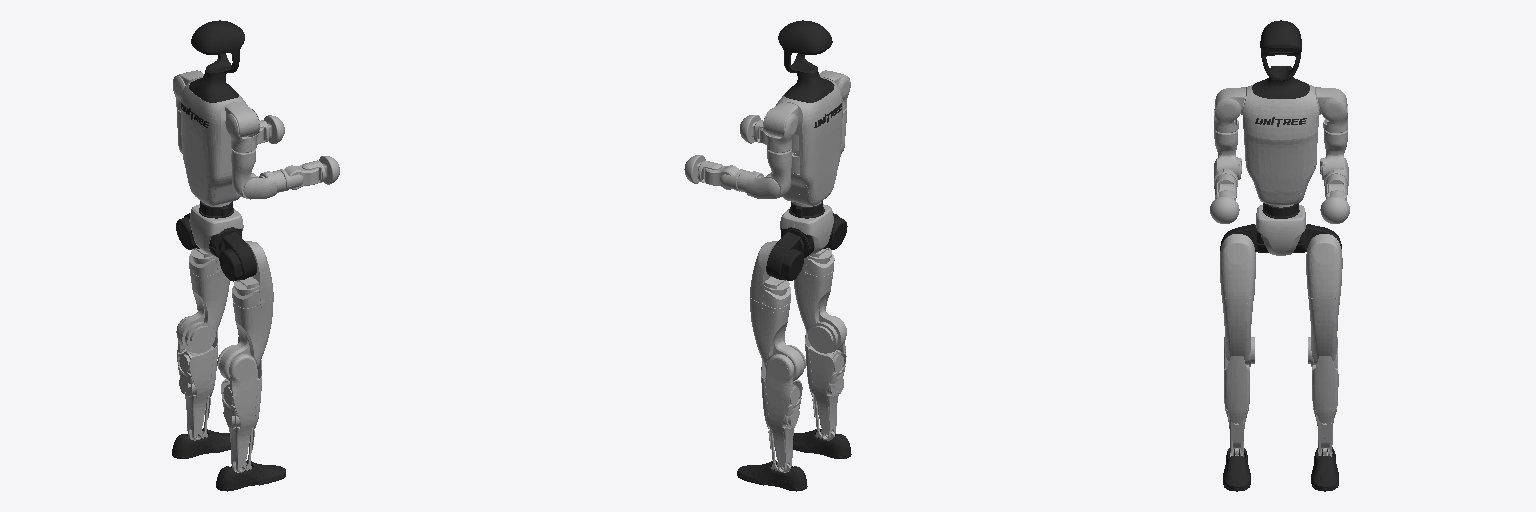
--- Facts derived from the render (not from the file) ---
3 views of the same robot in one strip: view 1: azimuth 30°, elevation 25°; view 2: azimuth 150°, elevation 25°; view 3: azimuth 270°, elevation 25° (orthographic).
Model g1_29dof with 53 links and 52 joints (29 revolute, 23 fixed), rooted at pelvis, posed every joint at zero.
Links seen in each view (by area): view 1: torso_link, right_knee_link, head_link, left_knee_link, left_hip_yaw_link, right_hip_yaw_link, right_hip_roll_link, right_hip_pitch_link, right_ankle_roll_link, pelvis_contour_link, left_ankle_roll_link, right_elbow_link (+5 smaller); view 2: torso_link, left_knee_link, head_link, right_knee_link, right_hip_yaw_link, left_hip_yaw_link, left_hip_roll_link, left_hip_pitch_link, left_ankle_roll_link, pelvis_contour_link, right_ankle_roll_link, left_elbow_link (+5 smaller); view 3: torso_link, head_link, left_hip_roll_link, right_hip_roll_link, left_knee_link, right_knee_link, right_hip_yaw_link, left_hip_yaw_link, pelvis_contour_link, right_ankle_roll_link, left_ankle_roll_link, left_shoulder_yaw_link (+6 smaller).
Link boxes in pixels (box(x1,y1,x2,y2)): torso_link: box(181, 77, 247, 196); right_knee_link: box(221, 354, 261, 472); head_link: box(189, 20, 244, 102); left_knee_link: box(176, 316, 217, 439); left_hip_yaw_link: box(177, 271, 229, 353); right_hip_yaw_link: box(217, 297, 273, 380); right_hip_roll_link: box(232, 241, 273, 308); right_hip_pitch_link: box(219, 232, 256, 281); right_ankle_roll_link: box(216, 460, 285, 491); pelvis_contour_link: box(189, 204, 243, 255); left_ankle_roll_link: box(172, 428, 230, 458); right_elbow_link: box(243, 170, 285, 198); torso_link: box(776, 77, 842, 196); left_knee_link: box(761, 354, 802, 472); head_link: box(778, 20, 833, 102); right_knee_link: box(805, 316, 846, 439); right_hip_yaw_link: box(794, 270, 845, 353); left_hip_yaw_link: box(750, 298, 805, 381); left_hip_roll_link: box(750, 241, 790, 308); left_hip_pitch_link: box(766, 232, 803, 280); left_ankle_roll_link: box(737, 460, 807, 490); pelvis_contour_link: box(780, 204, 833, 255); right_ankle_roll_link: box(793, 429, 851, 458); left_elbow_link: box(737, 170, 779, 198); torso_link: box(1241, 84, 1320, 194); head_link: box(1252, 20, 1309, 98); left_hip_roll_link: box(1306, 234, 1342, 298); right_hip_roll_link: box(1220, 234, 1255, 298); left_knee_link: box(1312, 337, 1338, 456); right_knee_link: box(1224, 337, 1249, 456); right_hip_yaw_link: box(1222, 297, 1254, 366); left_hip_yaw_link: box(1308, 296, 1339, 366); pelvis_contour_link: box(1256, 205, 1305, 255); right_ankle_roll_link: box(1223, 448, 1250, 491); left_ankle_roll_link: box(1311, 447, 1338, 491); left_shoulder_yaw_link: box(1320, 130, 1347, 179).
Bounding box of the posed robot: 0.3633 × 0.377 × 1.32 m (x, y, z).
36 mesh visuals loaded from 35 distinct referenced files (35 OBJ).

robot.urdf — g1_29dof:
<robot name="g1_29dof">
  <mujoco>
    <compiler meshdir="assets" discardvisual="false"/>
  </mujoco>

  <!-- [CAUTION] uncomment when convert to mujoco -->
  <!-- <link name="world"></link>
  <joint name="floating_base_joint" type="floating">
    <parent link="world"/>
    <child link="pelvis"/>
  </joint> -->

  <link name="pelvis">
    <inertial>
      <origin xyz="0 0 -0.07605" rpy="0 0 0"/>
      <mass value="3.813"/>
      <inertia ixx="0.010549" ixy="0" ixz="2.1E-06" iyy="0.0093089" iyz="0" izz="0.0079184"/>
    </inertial>
    <visual>
      <origin xyz="0 0 0" rpy="0 0 0"/>
      <geometry>
        <mesh filename="assets/pelvis.obj"/>
      </geometry>
      <material name="dark">
        <color rgba="0.2 0.2 0.2 1"/>
      </material>
    </visual>
  </link>
  <link name="pelvis_contour_link">
    <inertial>
      <origin xyz="0 0 0" rpy="0 0 0"/>
      <mass value="0.001"/>
      <inertia ixx="1e-7" ixy="0" ixz="0" iyy="1e-7" iyz="0" izz="1e-7"/>
    </inertial>
    <visual>
      <origin xyz="0 0 0" rpy="0 0 0"/>
      <geometry>
        <mesh filename="assets/pelvis_contour_link.obj"/>
      </geometry>
      <material name="white">
        <color rgba="0.7 0.7 0.7 1"/>
      </material>
    </visual>
    <collision name="pelvis_contour_link">
      <origin xyz="0 0 0" rpy="0 0 0"/>
      <geometry>
        <mesh filename="assets/pelvis_contour_link.obj"/>
      </geometry>
    </collision>
  </link>
  <joint name="pelvis_contour_joint" type="fixed">
    <parent link="pelvis"/>
    <child link="pelvis_contour_link"/>
  </joint>

  <!-- Legs -->
  <link name="left_hip_pitch_link">
    <inertial>
      <origin xyz="0.002741 0.047791 -0.02606" rpy="0 0 0"/>
      <mass value="1.35"/>
      <inertia ixx="0.001811" ixy="3.68E-05" ixz="-3.44E-05" iyy="0.0014193" iyz="0.000171" izz="0.0012812"/>
    </inertial>
    <visual>
      <origin xyz="0 0 0" rpy="0 0 0"/>
      <geometry>
        <mesh filename="assets/left_hip_pitch_link.obj"/>
      </geometry>
      <material name="dark">
        <color rgba="0.2 0.2 0.2 1"/>
      </material>
    </visual>
    <collision name="left_hip_pitch_link">
      <origin xyz="0 0 0" rpy="0 0 0"/>
      <geometry>
        <mesh filename="assets/left_hip_pitch_link.obj"/>
      </geometry>
    </collision>
  </link>
  <joint name="left_hip_pitch_joint" type="revolute">
    <origin xyz="0 0.064452 -0.1027" rpy="0 0 0"/>
    <parent link="pelvis"/>
    <child link="left_hip_pitch_link"/>
    <axis xyz="0 1 0"/>
    <limit lower="-2.5307" upper="2.8798" effort="88" velocity="32"/>
  </joint>
  <link name="left_hip_roll_link">
    <inertial>
      <origin xyz="0.029812 -0.001045 -0.087934" rpy="0 0 0"/>
      <mass value="1.52"/>
      <inertia ixx="0.0023773" ixy="-3.8E-06" ixz="-0.0003908" iyy="0.0024123" iyz="1.84E-05" izz="0.0016595"/>
    </inertial>
    <visual>
      <origin xyz="0 0 0" rpy="0 0 0"/>
      <geometry>
        <mesh filename="assets/left_hip_roll_link.obj"/>
      </geometry>
      <material name="white">
        <color rgba="0.7 0.7 0.7 1"/>
      </material>
    </visual>
    <collision name="left_hip_roll_link">
      <origin xyz="0 0 0" rpy="0 0 0"/>
      <geometry>
        <mesh filename="assets/left_hip_roll_link.obj"/>
      </geometry>
    </collision>
  </link>
  <joint name="left_hip_roll_joint" type="revolute">
    <origin xyz="0 0.052 -0.030465" rpy="0 -0.1749 0"/>
    <parent link="left_hip_pitch_link"/>
    <child link="left_hip_roll_link"/>
    <axis xyz="1 0 0"/>
    <limit lower="-0.5236" upper="2.9671" effort="88" velocity="32"/>
  </joint>
  <link name="left_hip_yaw_link">
    <inertial>
      <origin xyz="-0.057709 -0.010981 -0.15078" rpy="0 0 0"/>
      <mass value="1.702"/>
      <inertia ixx="0.0057774" ixy="-0.0005411" ixz="-0.0023948" iyy="0.0076124" iyz="-0.0007072" izz="0.003149"/>
    </inertial>
    <visual>
      <origin xyz="0 0 0" rpy="0 0 0"/>
      <geometry>
        <mesh filename="assets/left_hip_yaw_link.obj"/>
      </geometry>
      <material name="white">
        <color rgba="0.7 0.7 0.7 1"/>
      </material>
    </visual>
    <collision name="left_hip_yaw_link">
      <origin xyz="0 0 0" rpy="0 0 0"/>
      <geometry>
        <mesh filename="assets/left_hip_yaw_link.obj"/>
      </geometry>
    </collision>
  </link>
  <joint name="left_hip_yaw_joint" type="revolute">
    <origin xyz="0.025001 0 -0.12412" rpy="0 0 0"/>
    <parent link="left_hip_roll_link"/>
    <child link="left_hip_yaw_link"/>
    <axis xyz="0 0 1"/>
    <limit lower="-2.7576" upper="2.7576" effort="88" velocity="32"/>
  </joint>
  <link name="left_knee_link">
    <inertial>
      <origin xyz="0.005457 0.003964 -0.12074" rpy="0 0 0"/>
      <mass value="1.932"/>
      <inertia ixx="0.011329" ixy="4.82E-05" ixz="-4.49E-05" iyy="0.011277" iyz="-0.0007146" izz="0.0015168"/>
    </inertial>
    <visual>
      <origin xyz="0 0 0" rpy="0 0 0"/>
      <geometry>
        <mesh filename="assets/left_knee_link.obj"/>
      </geometry>
      <material name="white">
        <color rgba="0.7 0.7 0.7 1"/>
      </material>
    </visual>
    <collision name="left_knee_link">
      <origin xyz="0 0 0" rpy="0 0 0"/>
      <geometry>
        <mesh filename="assets/left_knee_link.obj"/>
      </geometry>
    </collision>
  </link>
  <joint name="left_knee_joint" type="revolute">
    <origin xyz="-0.078273 0.0021489 -0.17734" rpy="0 0.1749 0"/>
    <parent link="left_hip_yaw_link"/>
    <child link="left_knee_link"/>
    <axis xyz="0 1 0"/>
    <limit lower="-0.087267" upper="2.8798" effort="139" velocity="20"/>
  </joint>
  <link name="left_ankle_intermediate_1_link">
    <inertial>
      <origin xyz="0 0 0" rpy="0 0 0"/>
      <mass value="0.01"/>
      <inertia ixx="1e-6" ixy="0" ixz="0" iyy="1e-6" iyz="0" izz="1e-6"/>
    </inertial>
    <visual>
      <origin xyz="0 0 0" rpy="0 0 0"/>
      <geometry>
        <sphere radius="0.01"/>
      </geometry>
      <material name="white">
        <color rgba="0.7 0.7 0.7 1"/>
      </material>
    </visual>
    <collision name="left_ankle_intermediate_1_link">
      <origin xyz="0 0 0" rpy="0 0 0"/>
      <geometry>
        <sphere radius="0.01"/>
      </geometry>
    </collision>
  </link>
  <joint name="left_ankle_intermediate_1_joint" type="fixed">
    <origin xyz="0 0 -0.28" rpy="0 0 0"/>
    <parent link="left_knee_link"/>
    <child link="left_ankle_intermediate_1_link"/>
  </joint>
  <link name="left_ankle_pitch_link">
    <inertial>
      <origin xyz="-0.007269 0 0.011137" rpy="0 0 0"/>
      <mass value="0.074"/>
      <inertia ixx="8.4E-06" ixy="0" ixz="-2.9E-06" iyy="1.89E-05" iyz="0" izz="1.26E-05"/>
    </inertial>
    <visual>
      <origin xyz="0 0 0" rpy="0 0 0"/>
      <geometry>
        <mesh filename="assets/left_ankle_pitch_link.obj"/>
      </geometry>
      <material name="white">
        <color rgba="0.7 0.7 0.7 1"/>
      </material>
    </visual>
    <collision name="left_ankle_pitch_link">
      <origin xyz="0 0 0" rpy="0 0 0"/>
      <geometry>
        <mesh filename="assets/left_ankle_pitch_link.obj"/>
      </geometry>
    </collision>
  </link>
  <joint name="left_ankle_pitch_joint" type="revolute">
    <origin xyz="0 -9.4445E-05 -0.30001" rpy="0 0 0"/>
    <parent link="left_knee_link"/>
    <child link="left_ankle_pitch_link"/>
    <axis xyz="0 1 0"/>
    <limit lower="-0.87267" upper="0.5236" effort="50" velocity="37"/>
  </joint>
  <link name="left_ankle_roll_link">
    <inertial>
      <origin xyz="0.026505 0 -0.016425" rpy="0 0 0"/>
      <mass value="0.608"/>
      <inertia ixx="0.0002231" ixy="2E-07" ixz="8.91E-05" iyy="0.0016161" iyz="-1E-07" izz="0.0016667"/>
    </inertial>
    <visual>
      <origin xyz="0 0 0" rpy="0 0 0"/>
      <geometry>
        <mesh filename="assets/left_ankle_roll_link.obj"/>
      </geometry>
      <material name="dark">
        <color rgba="0.2 0.2 0.2 1"/>
      </material>
    </visual>
    <collision name="left_ankle_roll_link">
      <origin xyz="0 0 0" rpy="0 0 0"/>
      <geometry>
        <mesh filename="assets/left_ankle_roll_link.obj"/>
      </geometry>
    </collision>
  </link>
  <joint name="left_ankle_roll_joint" type="revolute">
    <origin xyz="0 0 -0.017558" rpy="0 0 0"/>
    <parent link="left_ankle_pitch_link"/>
    <child link="left_ankle_roll_link"/>
    <axis xyz="1 0 0"/>
    <limit lower="-0.2618" upper="0.2618" effort="50" velocity="37"/>
  </joint>
  <link name="left_ankle_roll_sphere_3_link">
    <inertial>
      <origin xyz="0 0 0" rpy="0 0 0"/>
      <mass value="0.001"/>
      <inertia ixx="1e-7" ixy="0" ixz="0" iyy="1e-7" iyz="0" izz="1e-7"/>
    </inertial>
    <visual>
      <origin xyz="0 0 0" rpy="0 0 0"/>
      <geometry>
        <sphere radius="0.005"/>
      </geometry>
      <material name="dark">
        <color rgba="0.2 0.2 0.2 1"/>
      </material>
    </visual>
    <collision name="left_ankle_roll_sphere_3_link">
      <origin xyz="0.0 0.0 0.0" rpy="0 0 0"/>
      <geometry>
        <sphere radius="0.005"/>
      </geometry>
    </collision>
  </link>
  <joint name="left_ankle_roll_sphere_3_joint" type="fixed">
    <origin xyz="0.12 0.03 -0.03" rpy="0 0 0"/>
    <parent link="left_ankle_roll_link"/>
    <child link="left_ankle_roll_sphere_3_link"/>
  </joint>
  <link name="left_ankle_roll_sphere_4_link">
    <inertial>
      <origin xyz="0 0 0" rpy="0 0 0"/>
      <mass value="0.001"/>
      <inertia ixx="1e-7" ixy="0" ixz="0" iyy="1e-7" iyz="0" izz="1e-7"/>
    </inertial>
    <visual>
      <origin xyz="0 0 0" rpy="0 0 0"/>
      <geometry>
        <sphere radius="0.005"/>
      </geometry>
      <material name="dark">
        <color rgba="0.2 0.2 0.2 1"/>
      </material>
    </visual>
    <collision name="left_ankle_roll_sphere_4_link">
      <origin xyz="0.0 0.0 0.0" rpy="0 0 0"/>
      <geometry>
        <sphere radius="0.005"/>
      </geometry>
    </collision>
  </link>
  <joint name="left_ankle_roll_sphere_4_joint" type="fixed">
    <origin xyz="0.12 -0.03 -0.03" rpy="0 0 0"/>
    <parent link="left_ankle_roll_link"/>
    <child link="left_ankle_roll_sphere_4_link"/>
  </joint>
  <link name="left_ankle_roll_sphere_5_link">
    <inertial>
      <origin xyz="0 0 0" rpy="0 0 0"/>
      <mass value="0.001"/>
      <inertia ixx="1e-7" ixy="0" ixz="0" iyy="1e-7" iyz="0" izz="1e-7"/>
    </inertial>
    <visual>
      <origin xyz="0 0 0" rpy="0 0 0"/>
      <geometry>
        <sphere radius="0.005"/>
      </geometry>
      <material name="dark">
        <color rgba="0.2 0.2 0.2 1"/>
      </material>
    </visual>
    <collision name="left_ankle_roll_sphere_5_link">
      <origin xyz="0.0 0.0 0.0" rpy="0 0 0"/>
      <geometry>
        <sphere radius="0.005"/>
      </geometry>
    </collision>
  </link>
  <joint name="left_ankle_roll_sphere_5_joint" type="fixed">
    <origin xyz="0.14 0 -0.03" rpy="0 0 0"/>
    <parent link="left_ankle_roll_link"/>
    <child link="left_ankle_roll_sphere_5_link"/>
  </joint>
  <link name="left_ankle_roll_sphere_1_link">
    <inertial>
      <origin xyz="0 0 0" rpy="0 0 0"/>
      <mass value="0.001"/>
      <inertia ixx="1e-7" ixy="0" ixz="0" iyy="1e-7" iyz="0" izz="1e-7"/>
    </inertial>
    <visual>
      <origin xyz="0 0 0" rpy="0 0 0"/>
      <geometry>
        <sphere radius="0.005"/>
      </geometry>
      <material name="dark">
        <color rgba="0.2 0.2 0.2 1"/>
      </material>
    </visual>
    <collision name="left_ankle_roll_sphere_1_link">
      <origin xyz="0.0 0.0 0.0" rpy="0 0 0"/>
      <geometry>
        <sphere radius="0.005"/>
      </geometry>
    </collision>
  </link>
  <joint name="left_ankle_roll_sphere_1_joint" type="fixed">
    <origin xyz="-0.05 0.025 -0.03" rpy="0 0 0"/>
    <parent link="left_ankle_roll_link"/>
    <child link="left_ankle_roll_sphere_1_link"/>
  </joint>
  <link name="left_ankle_roll_sphere_2_link">
    <inertial>
      <origin xyz="0 0 0" rpy="0 0 0"/>
      <mass value="0.001"/>
      <inertia ixx="1e-7" ixy="0" ixz="0" iyy="1e-7" iyz="0" izz="1e-7"/>
    </inertial>
    <visual>
      <origin xyz="0 0 0" rpy="0 0 0"/>
      <geometry>
        <sphere radius="0.005"/>
      </geometry>
      <material name="dark">
        <color rgba="0.2 0.2 0.2 1"/>
      </material>
    </visual>
    <collision name="left_ankle_roll_sphere_2_link">
      <origin xyz="0.0 0.0 0.0" rpy="0 0 0"/>
      <geometry>
        <sphere radius="0.005"/>
      </geometry>
    </collision>
  </link>
  <joint name="left_ankle_roll_sphere_2_joint" type="fixed">
    <origin xyz="-0.05 -0.025 -0.03" rpy="0 0 0"/>
    <parent link="left_ankle_roll_link"/>
    <child link="left_ankle_roll_sphere_2_link"/>
  </joint>
  <link name="right_hip_pitch_link">
    <inertial>
      <origin xyz="0.002741 -0.047791 -0.02606" rpy="0 0 0"/>
      <mass value="1.35"/>
      <inertia ixx="0.001811" ixy="-3.68E-05" ixz="-3.44E-05" iyy="0.0014193" iyz="-0.000171" izz="0.0012812"/>
    </inertial>
    <visual>
      <origin xyz="0 0 0" rpy="0 0 0"/>
      <geometry>
        <mesh filename="assets/right_hip_pitch_link.obj"/>
      </geometry>
      <material name="dark">
        <color rgba="0.2 0.2 0.2 1"/>
      </material>
    </visual>
    <collision name="right_hip_pitch_link">
      <origin xyz="0 0 0" rpy="0 0 0"/>
      <geometry>
        <mesh filename="assets/right_hip_pitch_link.obj"/>
      </geometry>
    </collision>
  </link>
  <joint name="right_hip_pitch_joint" type="revolute">
    <origin xyz="0 -0.064452 -0.1027" rpy="0 0 0"/>
    <parent link="pelvis"/>
    <child link="right_hip_pitch_link"/>
    <axis xyz="0 1 0"/>
    <limit lower="-2.5307" upper="2.8798" effort="88" velocity="32"/>
  </joint>
  <link name="right_hip_roll_link">
    <inertial>
      <origin xyz="0.029812 0.001045 -0.087934" rpy="0 0 0"/>
      <mass value="1.52"/>
      <inertia ixx="0.0023773" ixy="3.8E-06" ixz="-0.0003908" iyy="0.0024123" iyz="-1.84E-05" izz="0.0016595"/>
    </inertial>
    <visual>
      <origin xyz="0 0 0" rpy="0 0 0"/>
      <geometry>
        <mesh filename="assets/right_hip_roll_link.obj"/>
      </geometry>
      <material name="white">
        <color rgba="0.7 0.7 0.7 1"/>
      </material>
    </visual>
    <collision name="right_hip_roll_link">
      <origin xyz="0 0 0" rpy="0 0 0"/>
      <geometry>
        <mesh filename="assets/right_hip_roll_link.obj"/>
      </geometry>
    </collision>
  </link>
  <joint name="right_hip_roll_joint" type="revolute">
    <origin xyz="0 -0.052 -0.030465" rpy="0 -0.1749 0"/>
    <parent link="right_hip_pitch_link"/>
    <child link="right_hip_roll_link"/>
    <axis xyz="1 0 0"/>
    <limit lower="-2.9671" upper="0.5236" effort="88" velocity="32"/>
  </joint>
  <link name="right_hip_yaw_link">
    <inertial>
      <origin xyz="-0.057709 0.010981 -0.15078" rpy="0 0 0"/>
      <mass value="1.702"/>
      <inertia ixx="0.0057774" ixy="0.0005411" ixz="-0.0023948" iyy="0.0076124" iyz="0.0007072" izz="0.003149"/>
    </inertial>
    <visual>
      <origin xyz="0 0 0" rpy="0 0 0"/>
      <geometry>
        <mesh filename="assets/right_hip_yaw_link.obj"/>
      </geometry>
      <material name="white">
        <color rgba="0.7 0.7 0.7 1"/>
      </material>
    </visual>
    <collision name="right_hip_yaw_link">
      <origin xyz="0 0 0" rpy="0 0 0"/>
      <geometry>
        <mesh filename="assets/right_hip_yaw_link.obj"/>
      </geometry>
    </collision>
  </link>
  <joint name="right_hip_yaw_joint" type="revolute">
    <origin xyz="0.025001 0 -0.12412" rpy="0 0 0"/>
    <parent link="right_hip_roll_link"/>
    <child link="right_hip_yaw_link"/>
    <axis xyz="0 0 1"/>
    <limit lower="-2.7576" upper="2.7576" effort="88" velocity="32"/>
  </joint>
  <link name="right_knee_link">
    <inertial>
      <origin xyz="0.005457 -0.003964 -0.12074" rpy="0 0 0"/>
      <mass value="1.932"/>
      <inertia ixx="0.011329" ixy="-4.82E-05" ixz="4.49E-05" iyy="0.011277" iyz="0.0007146" izz="0.0015168"/>
    </inertial>
    <visual>
      <origin xyz="0 0 0" rpy="0 0 0"/>
      <geometry>
        <mesh filename="assets/right_knee_link.obj"/>
      </geometry>
      <material name="white">
        <color rgba="0.7 0.7 0.7 1"/>
      </material>
    </visual>
    <collision name="right_knee_link">
      <origin xyz="0 0 0" rpy="0 0 0"/>
      <geometry>
        <mesh filename="assets/right_knee_link.obj"/>
      </geometry>
    </collision>
  </link>
  <joint name="right_knee_joint" type="revolute">
    <origin xyz="-0.078273 -0.0021489 -0.17734" rpy="0 0.1749 0"/>
    <parent link="right_hip_yaw_link"/>
    <child link="right_knee_link"/>
    <axis xyz="0 1 0"/>
    <limit lower="-0.087267" upper="2.8798" effort="139" velocity="20"/>
  </joint>
  <link name="right_ankle_intermediate_1_link">
    <inertial>
      <origin xyz="0 0 0" rpy="0 0 0"/>
      <mass value="0.01"/>
      <inertia ixx="1e-6" ixy="0" ixz="0" iyy="1e-6" iyz="0" izz="1e-6"/>
    </inertial>
    <visual>
      <origin xyz="0 0 0" rpy="0 0 0"/>
      <geometry>
        <sphere radius="0.01"/>
      </geometry>
      <material name="white">
        <color rgba="0.7 0.7 0.7 1"/>
      </material>
    </visual>
    <collision name="right_ankle_intermediate_1_link">
      <origin xyz="0 0 0" rpy="0 0 0"/>
      <geometry>
        <sphere radius="0.01"/>
      </geometry>
    </collision>
  </link>
  <joint name="right_ankle_intermediate_1_joint" type="fixed">
    <origin xyz="0 0 -0.28" rpy="0 0 0"/>
    <parent link="right_knee_link"/>
    <child link="right_ankle_intermediate_1_link"/>
  </joint>
  <link name="right_ankle_pitch_link">
    <inertial>
      <origin xyz="-0.007269 0 0.011137" rpy="0 0 0"/>
      <mass value="0.074"/>
      <inertia ixx="8.4E-06" ixy="0" ixz="-2.9E-06" iyy="1.89E-05" iyz="0" izz="1.26E-05"/>
    </inertial>
    <visual>
      <origin xyz="0 0 0" rpy="0 0 0"/>
      <geometry>
        <mesh filename="assets/right_ankle_pitch_link.obj"/>
      </geometry>
      <material name="white">
        <color rgba="0.7 0.7 0.7 1"/>
      </material>
    </visual>
    <collision name="right_ankle_pitch_link">
      <origin xyz="0 0 0" rpy="0 0 0"/>
      <geometry>
        <mesh filename="assets/right_ankle_pitch_link.obj"/>
      </geometry>
    </collision>
  </link>
  <joint name="right_ankle_pitch_joint" type="revolute">
    <origin xyz="0 9.4445E-05 -0.30001" rpy="0 0 0"/>
    <parent link="right_knee_link"/>
    <child link="right_ankle_pitch_link"/>
    <axis xyz="0 1 0"/>
    <limit lower="-0.87267" upper="0.5236" effort="50" velocity="37"/>
  </joint>
  <link name="right_ankle_roll_link">
    <inertial>
      <origin xyz="0.026505 0 -0.016425" rpy="0 0 0"/>
      <mass value="0.608"/>
      <inertia ixx="0.0002231" ixy="-2E-07" ixz="8.91E-05" iyy="0.0016161" iyz="1E-07" izz="0.0016667"/>
    </inertial>
    <visual>
      <origin xyz="0 0 0" rpy="0 0 0"/>
      <geometry>
        <mesh filename="assets/right_ankle_roll_link.obj"/>
      </geometry>
      <material name="dark">
        <color rgba="0.2 0.2 0.2 1"/>
      </material>
    </visual>
    <collision name="right_ankle_roll_link">
      <origin xyz="0 0 0" rpy="0 0 0"/>
      <geometry>
        <mesh filename="assets/right_ankle_roll_link.obj"/>
      </geometry>
    </collision>
  </link>
  <joint name="right_ankle_roll_joint" type="revolute">
    <origin xyz="0 0 -0.017558" rpy="0 0 0"/>
    <parent link="right_ankle_pitch_link"/>
    <child link="right_ankle_roll_link"/>
    <axis xyz="1 0 0"/>
    <limit lower="-0.2618" upper="0.2618" effort="50" velocity="37"/>
  </joint>
  <link name="right_ankle_roll_sphere_3_link">
    <inertial>
      <origin xyz="0 0 0" rpy="0 0 0"/>
      <mass value="0.001"/>
      <inertia ixx="1e-7" ixy="0" ixz="0" iyy="1e-7" iyz="0" izz="1e-7"/>
    </inertial>
    <visual>
      <origin xyz="0 0 0" rpy="0 0 0"/>
      <geometry>
        <sphere radius="0.005"/>
      </geometry>
      <material name="dark">
        <color rgba="0.2 0.2 0.2 1"/>
      </material>
    </visual>
    <collision name="right_ankle_roll_sphere_3_link">
      <origin xyz="0.0 0.0 0.0" rpy="0 0 0"/>
      <geometry>
        <sphere radius="0.005"/>
      </geometry>
    </collision>
  </link>
  <joint name="right_ankle_roll_sphere_3_joint" type="fixed">
    <origin xyz="0.12 0.03 -0.03" rpy="0 0 0"/>
    <parent link="right_ankle_roll_link"/>
    <child link="right_ankle_roll_sphere_3_link"/>
  </joint>
  <link name="right_ankle_roll_sphere_4_link">
    <inertial>
      <origin xyz="0 0 0" rpy="0 0 0"/>
      <mass value="0.001"/>
      <inertia ixx="1e-7" ixy="0" ixz="0" iyy="1e-7" iyz="0" izz="1e-7"/>
    </inertial>
    <visual>
      <origin xyz="0 0 0" rpy="0 0 0"/>
      <geometry>
        <sphere radius="0.005"/>
      </geometry>
      <material name="dark">
        <color rgba="0.2 0.2 0.2 1"/>
      </material>
    </visual>
    <collision name="right_ankle_roll_sphere_4_link">
      <origin xyz="0.0 0.0 0.0" rpy="0 0 0"/>
      <geometry>
        <sphere radius="0.005"/>
      </geometry>
    </collision>
  </link>
  <joint name="right_ankle_roll_sphere_4_joint" type="fixed">
    <origin xyz="0.12 -0.03 -0.03" rpy="0 0 0"/>
    <parent link="right_ankle_roll_link"/>
    <child link="right_ankle_roll_sphere_4_link"/>
  </joint>
  <link name="right_ankle_roll_sphere_5_link">
    <inertial>
      <origin xyz="0 0 0" rpy="0 0 0"/>
      <mass value="0.001"/>
      <inertia ixx="1e-7" ixy="0" ixz="0" iyy="1e-7" iyz="0" izz="1e-7"/>
    </inertial>
    <visual>
      <origin xyz="0 0 0" rpy="0 0 0"/>
      <geometry>
        <sphere radius="0.005"/>
      </geometry>
      <material name="dark">
        <color rgba="0.2 0.2 0.2 1"/>
      </material>
    </visual>
    <collision name="right_ankle_roll_sphere_5_link">
      <origin xyz="0.0 0.0 0.0" rpy="0 0 0"/>
      <geometry>
        <sphere radius="0.005"/>
      </geometry>
    </collision>
  </link>
  <joint name="right_ankle_roll_sphere_5_joint" type="fixed">
    <origin xyz="0.14 0 -0.03" rpy="0 0 0"/>
    <parent link="right_ankle_roll_link"/>
    <child link="right_ankle_roll_sphere_5_link"/>
  </joint>
  <link name="right_ankle_roll_sphere_1_link">
    <inertial>
      <origin xyz="0 0 0" rpy="0 0 0"/>
      <mass value="0.001"/>
      <inertia ixx="1e-7" ixy="0" ixz="0" iyy="1e-7" iyz="0" izz="1e-7"/>
    </inertial>
    <visual>
      <origin xyz="0 0 0" rpy="0 0 0"/>
      <geometry>
        <sphere radius="0.005"/>
      </geometry>
      <material name="dark">
        <color rgba="0.2 0.2 0.2 1"/>
      </material>
    </visual>
    <collision name="right_ankle_roll_sphere_1_link">
      <origin xyz="0.0 0.0 0.0" rpy="0 0 0"/>
      <geometry>
        <sphere radius="0.005"/>
      </geometry>
    </collision>
  </link>
  <joint name="right_ankle_roll_sphere_1_joint" type="fixed">
    <origin xyz="-0.05 0.025 -0.03" rpy="0 0 0"/>
    <parent link="right_ankle_roll_link"/>
    <child link="right_ankle_roll_sphere_1_link"/>
  </joint>
  <link name="right_ankle_roll_sphere_2_link">
    <inertial>
      <origin xyz="0 0 0" rpy="0 0 0"/>
      <mass value="0.001"/>
      <inertia ixx="1e-7" ixy="0" ixz="0" iyy="1e-7" iyz="0" izz="1e-7"/>
    </inertial>
    <visual>
      <origin xyz="0 0 0" rpy="0 0 0"/>
      <geometry>
        <sphere radius="0.005"/>
      </geometry>
      <material name="dark">
        <color rgba="0.2 0.2 0.2 1"/>
      </material>
    </visual>
    <collision name="right_ankle_roll_sphere_2_link">
      <origin xyz="0.0 0.0 0.0" rpy="0 0 0"/>
      <geometry>
        <sphere radius="0.005"/>
      </geometry>
    </collision>
  </link>
  <joint name="right_ankle_roll_sphere_2_joint" type="fixed">
    <origin xyz="-0.05 -0.025 -0.03" rpy="0 0 0"/>
    <parent link="right_ankle_roll_link"/>
    <child link="right_ankle_roll_sphere_2_link"/>
  </joint>

  <!-- Torso -->
  <link name="waist_yaw_link">
    <inertial>
      <origin xyz="0.003964 0 0.018769" rpy="0 0 0"/>
      <mass value="0.244"/>
      <inertia ixx="9.9587E-05" ixy="-1.833E-06" ixz="-1.2617E-05" iyy="0.00012411" iyz="-1.18E-07" izz="0.00015586"/>
    </inertial>
    <visual>
      <origin xyz="0 0 0" rpy="0 0 0"/>
      <geometry>
        <mesh filename="assets/waist_yaw_link.obj"/>
      </geometry>
      <material name="white">
        <color rgba="0.7 0.7 0.7 1"/>
      </material>
    </visual>
  </link>
  <joint name="waist_yaw_joint" type="revolute">
    <origin xyz="0 0 0" rpy="0 0 0"/>
    <parent link="pelvis"/>
    <child link="waist_yaw_link"/>
    <axis xyz="0 0 1"/>
    <limit lower="-2.618" upper="2.618" effort="88" velocity="32"/>
  </joint>
  <link name="waist_roll_link">
    <inertial>
      <origin xyz="0 -0.000236 0.010111" rpy="0 0 0"/>
      <mass value="0.047"/>
      <inertia ixx="7.515E-06" ixy="0" ixz="0" iyy="6.398E-06" iyz="9.9E-08" izz="3.988E-06"/>
    </inertial>
    <visual>
      <origin xyz="0 0 0" rpy="0 0 0"/>
      <geometry>
        <mesh filename="assets/waist_roll_link.obj"/>
      </geometry>
      <material name="white">
        <color rgba="0.7 0.7 0.7 1"/>
      </material>
    </visual>
  </link>
  <joint name="waist_roll_joint" type="revolute">
    <origin xyz="-0.0039635 0 0.035" rpy="0 0 0"/>
    <parent link="waist_yaw_link"/>
    <child link="waist_roll_link"/>
    <axis xyz="1 0 0"/>
    <limit lower="-0.52" upper="0.52" effort="50" velocity="37"/>
  </joint>
  <link name="torso_link">
    <inertial>
      <origin xyz="0.002601 0.000257 0.153719" rpy="0 0 0"/>
      <mass value="8.562"/>
      <inertia ixx="0.065674966" ixy="-8.597E-05" ixz="-0.001737252" iyy="0.053535188" iyz="8.6899E-05" izz="0.030808125"/>
    </inertial>
    <visual>
      <origin xyz="0 0 0" rpy="0 0 0"/>
      <geometry>
        <mesh filename="assets/torso_link.obj"/>
      </geometry>
      <material name="white">
        <color rgba="0.7 0.7 0.7 1"/>
      </material>
    </visual>
    <collision name="torso_link">
      <origin xyz="0 0 0" rpy="0 0 0"/>
      <geometry>
        <mesh filename="assets/torso_link.obj"/>
      </geometry>
    </collision>
  </link>
  <joint name="waist_pitch_joint" type="revolute">
    <origin xyz="0 0 0.019" rpy="0 0 0"/>
    <parent link="waist_roll_link"/>
    <child link="torso_link"/>
    <axis xyz="0 1 0"/>
    <limit lower="-0.52" upper="0.52" effort="50" velocity="37"/>
  </joint>

  <!-- LOGO -->
  <joint name="logo_joint" type="fixed">
    <origin xyz="0.0039635 0 -0.054" rpy="0 0 0"/>
    <parent link="torso_link"/>
    <child link="logo_link"/>
  </joint>
  <link name="logo_link">
    <inertial>
      <origin xyz="0 0 0" rpy="0 0 0"/>
      <mass value="0.001"/>
      <inertia ixx="1e-7" ixy="0" ixz="0" iyy="1e-7" iyz="0" izz="1e-7"/>
    </inertial>
    <visual>
      <origin xyz="0 0 0" rpy="0 0 0"/>
      <geometry>
        <mesh filename="assets/logo_link.obj"/>
      </geometry>
      <material name="dark">
        <color rgba="0.2 0.2 0.2 1"/>
      </material>
    </visual>
    <collision name="logo_link">
      <origin xyz="0 0 0" rpy="0 0 0"/>
      <geometry>
        <mesh filename="assets/logo_link.obj"/>
      </geometry>
    </collision>
  </link>

  <!-- Head -->
  <link name="head_link">
    <inertial>
      <origin xyz="0.005267 0.000299 0.449869" rpy="0 0 0"/>
      <mass value="1.036"/>
      <inertia ixx="0.004085051" ixy="-2.543E-06" ixz="-6.9455E-05" iyy="0.004185212" iyz="-3.726E-06" izz="0.001807911"/>
    </inertial>
    <visual>
      <origin xyz="0 0 0" rpy="0 0 0"/>
      <geometry>
        <mesh filename="assets/head_link.obj"/>
      </geometry>
      <material name="dark">
        <color rgba="0.2 0.2 0.2 1"/>
      </material>
    </visual>
    <collision name="head_link">
      <origin xyz="0 0 0" rpy="0 0 0"/>
      <geometry>
        <mesh filename="assets/head_link.obj"/>
      </geometry>
    </collision>
  </link>
  <joint name="head_joint" type="fixed">
    <origin xyz="0.0039635 0 -0.054" rpy="0 0 0"/>
    <parent link="torso_link"/>
    <child link="head_link"/>
  </joint>

  <!-- Waist Support -->
  <link name="waist_support_link">
    <inertial>
      <origin xyz="0 0 0" rpy="0 0 0"/>
      <mass value="0.001"/>
      <inertia ixx="1e-7" ixy="0" ixz="0" iyy="1e-7" iyz="0" izz="1e-7"/>
    </inertial>
    <visual>
      <origin xyz="0 0 0" rpy="0 0 0"/>
      <geometry>
        <mesh filename="assets/waist_support_link.obj"/>
      </geometry>
      <material name="white">
        <color rgba="0.7 0.7 0.7 1"/>
      </material>
    </visual>
    <collision name="waist_support_link">
      <origin xyz="0 0 0" rpy="0 0 0"/>
      <geometry>
        <mesh filename="assets/waist_support_link.obj"/>
      </geometry>
    </collision>
  </link>
  <joint name="waist_support_joint" type="fixed">
    <origin xyz="0.0039635 0 -0.054" rpy="0 0 0"/>
    <parent link="torso_link"/>
    <child link="waist_support_link"/>
  </joint>

  <!-- IMU -->
  <link name="imu_link"></link>
  <joint name="imu_joint" type="fixed">
    <origin xyz="-0.03959 -0.00224 0.13792" rpy="0 0 0"/>
    <parent link="torso_link"/>
    <child link="imu_link"/>
  </joint>

  <!-- d435 -->
  <link name="d435_link"></link>
  <joint name="d435_joint" type="fixed">
    <origin xyz="0.0576235 0.01753 0.41987" rpy="0 0.8307767239493009 0"/>
    <parent link="torso_link"/>
    <child link="d435_link"/>
  </joint>

  <!-- mid360 -->
  <link name="mid360_link"></link>
  <joint name="mid360_joint" type="fixed">
    <origin xyz="0.0002835 0.00003 0.40618" rpy="0 0.04014257279586953 0"/>
    <parent link="torso_link"/>
    <child link="mid360_link"/>
  </joint>

  <!-- Arm -->
  <link name="left_shoulder_pitch_link">
    <inertial>
      <origin xyz="0 0.035892 -0.011628" rpy="0 0 0"/>
      <mass value="0.718"/>
      <inertia ixx="0.0004291" ixy="-9.2E-06" ixz="6.4E-06" iyy="0.000453" iyz="2.26E-05" izz="0.000423"/>
    </inertial>
    <visual>
      <origin xyz="0 0 0" rpy="0 0 0"/>
      <geometry>
        <mesh filename="assets/left_shoulder_pitch_link.obj"/>
      </geometry>
      <material name="white">
        <color rgba="0.7 0.7 0.7 1"/>
      </material>
    </visual>
    <collision name="left_shoulder_pitch_link">
      <origin xyz="0 0.04 -0.01" rpy="0 1.5707963267948966 0"/>
      <geometry>
        <cylinder radius="0.03" length="0.05"/>
      </geometry>
    </collision>
  </link>
  <joint name="left_shoulder_pitch_joint" type="revolute">
    <origin xyz="0.0039563 0.10022 0.23778" rpy="0.27931 5.4949E-05 -0.00019159"/>
    <parent link="torso_link"/>
    <child link="left_shoulder_pitch_link"/>
    <axis xyz="0 1 0"/>
    <limit lower="-3.0892" upper="2.6704" effort="25" velocity="37"/>
  </joint>
  <link name="left_shoulder_roll_link">
    <inertial>
      <origin xyz="-0.000227 0.00727 -0.063243" rpy="0 0 0"/>
      <mass value="0.643"/>
      <inertia ixx="0.0006177" ixy="-1E-06" ixz="8.7E-06" iyy="0.0006912" iyz="-5.3E-06" izz="0.0003894"/>
    </inertial>
    <visual>
      <origin xyz="0 0 0" rpy="0 0 0"/>
      <geometry>
        <mesh filename="assets/left_shoulder_roll_link.obj"/>
      </geometry>
      <material name="white">
        <color rgba="0.7 0.7 0.7 1"/>
      </material>
    </visual>
    <collision name="left_shoulder_roll_link">
      <origin xyz="-0.004 0.006 -0.053" rpy="0 0 0"/>
      <geometry>
        <cylinder radius="0.03" length="0.03"/>
      </geometry>
    </collision>
  </link>
  <joint name="left_shoulder_roll_joint" type="revolute">
    <origin xyz="0 0.038 -0.013831" rpy="-0.27925 0 0"/>
    <parent link="left_shoulder_pitch_link"/>
    <child link="left_shoulder_roll_link"/>
    <axis xyz="1 0 0"/>
    <limit lower="-1.5882" upper="2.2515" effort="25" velocity="37"/>
  </joint>
  <link name="left_shoulder_yaw_link">
    <inertial>
      <origin xyz="0.010773 -0.002949 -0.072009" rpy="0 0 0"/>
      <mass value="0.734"/>
      <inertia ixx="0.0009988" ixy="7.9E-06" ixz="0.0001412" iyy="0.0010605" iyz="-2.86E-05" izz="0.0004354"/>
    </inertial>
    <visual>
      <origin xyz="0 0 0" rpy="0 0 0"/>
      <geometry>
        <mesh filename="assets/left_shoulder_yaw_link.obj"/>
      </geometry>
      <material name="white">
        <color rgba="0.7 0.7 0.7 1"/>
      </material>
    </visual>
    <collision name="left_shoulder_yaw_link">
      <origin xyz="0 0 0" rpy="0 0 0"/>
      <geometry>
        <mesh filename="assets/left_shoulder_yaw_link.obj"/>
      </geometry>
    </collision>
  </link>
  <joint name="left_shoulder_yaw_joint" type="revolute">
    <origin xyz="0 0.00624 -0.1032" rpy="0 0 0"/>
    <parent link="left_shoulder_roll_link"/>
    <child link="left_shoulder_yaw_link"/>
    <axis xyz="0 0 1"/>
    <limit lower="-2.618" upper="2.618" effort="25" velocity="37"/>
  </joint>
  <link name="left_elbow_link">
    <inertial>
      <origin xyz="0.064956 0.004454 -0.010062" rpy="0 0 0"/>
      <mass value="0.6"/>
      <inertia ixx="0.0002891" ixy="6.53E-05" ixz="1.72E-05" iyy="0.0004152" iyz="-5.6E-06" izz="0.0004197"/>
    </inertial>
    <visual>
      <origin xyz="0 0 0" rpy="0 0 0"/>
      <geometry>
        <mesh filename="assets/left_elbow_link.obj"/>
      </geometry>
      <material name="white">
        <color rgba="0.7 0.7 0.7 1"/>
      </material>
    </visual>
    <collision name="left_elbow_link">
      <origin xyz="0 0 0" rpy="0 0 0"/>
      <geometry>
        <mesh filename="assets/left_elbow_link.obj"/>
      </geometry>
    </collision>
  </link>
  <joint name="left_elbow_joint" type="revolute">
    <origin xyz="0.015783 0 -0.080518" rpy="0 0 0"/>
    <parent link="left_shoulder_yaw_link"/>
    <child link="left_elbow_link"/>
    <axis xyz="0 1 0"/>
    <limit lower="-1.0472" upper="2.0944" effort="25" velocity="37"/>
  </joint>
  <joint name="left_wrist_roll_joint" type="revolute">
    <origin xyz="0.100 0.00188791 -0.010" rpy="0 0 0"/>
    <axis xyz="1 0 0"/>
    <parent link="left_elbow_link"/>
    <child link="left_wrist_roll_link"/>
    <limit effort="25" velocity="37" lower="-1.972222054" upper="1.972222054"/>
  </joint>
  <link name="left_wrist_roll_link">
    <inertial>
      <origin xyz="0.01713944778 0.00053759094 0.00000048864" rpy="0 0 0"/>
      <mass value="0.08544498"/>
      <inertia ixx="0.00004821544023" ixy="-0.00000424511021" ixz="0.00000000510599" iyy="0.00003722899093" iyz="-0.00000000123525" izz="0.00005482106541"/>
    </inertial>
    <visual>
      <origin xyz="0 0 0" rpy="0 0 0"/>
      <geometry>
        <mesh filename="assets/left_wrist_roll_link.obj"/>
      </geometry>
      <material name="white">
        <color rgba="0.7 0.7 0.7 1"/>
      </material>
    </visual>
    <collision name="left_wrist_roll_link">
      <origin xyz="0 0 0" rpy="0 0 0"/>
      <geometry>
        <mesh filename="assets/left_wrist_roll_link.obj"/>
      </geometry>
    </collision>
  </link>
  <joint name="left_wrist_pitch_joint" type="revolute">
    <origin xyz="0.038 0 0" rpy="0 0 0"/>
    <axis xyz="0 1 0"/>
    <parent link="left_wrist_roll_link"/>
    <child link="left_wrist_pitch_link"/>
    <limit effort="5" velocity="22" lower="-1.614429558" upper="1.614429558"/>
  </joint>
  <link name="left_wrist_pitch_link">
    <inertial>
      <origin xyz="0.02299989837 -0.00111685314 -0.00111658096" rpy="0 0 0"/>
      <mass value="0.48404956"/>
      <inertia ixx="0.00016579646273" ixy="-0.00001231206746" ixz="0.00001231699194" iyy="0.00042954057410" iyz="0.00000081417712" izz="0.00042953697654"/>
    </inertial>
    <visual>
      <origin xyz="0 0 0" rpy="0 0 0"/>
      <geometry>
        <mesh filename="assets/left_wrist_pitch_link.obj"/>
      </geometry>
      <material name="white">
        <color rgba="0.7 0.7 0.7 1"/>
      </material>
    </visual>
    <collision name="left_wrist_pitch_link">
      <origin xyz="0 0 0" rpy="0 0 0"/>
      <geometry>
        <mesh filename="assets/left_wrist_pitch_link.obj"/>
      </geometry>
    </collision>
  </link>
  <joint name="left_wrist_yaw_joint" type="revolute">
    <origin xyz="0.046 0 0" rpy="0 0 0"/>
    <axis xyz="0 0 1"/>
    <parent link="left_wrist_pitch_link"/>
    <child link="left_wrist_yaw_link"/>
    <limit effort="5" velocity="22" lower="-1.614429558" upper="1.614429558"/>
  </joint>
  <link name="left_wrist_yaw_link">
    <inertial>
      <origin xyz="0.02200381568 0.00049485096 0.00053861123" rpy="0 0 0"/>
      <mass value="0.08457647"/>
      <inertia ixx="0.00004929128828" ixy="-0.00000045735494" ixz="0.00000445867591" iyy="0.00005973338134" iyz="0.00000043217198" izz="0.00003928083826"/>
    </inertial>
    <visual>
      <origin xyz="0 0 0" rpy="0 0 0"/>
      <geometry>
        <mesh filename="assets/left_wrist_yaw_link.obj"/>
      </geometry>
      <material name="white">
        <color rgba="0.7 0.7 0.7 1"/>
      </material>
    </visual>
    <collision name="left_wrist_yaw_link">
      <origin xyz="0 0 0" rpy="0 0 0"/>
      <geometry>
        <mesh filename="assets/left_wrist_yaw_link.obj"/>
      </geometry>
    </collision>
  </link>
  <joint name="left_hand_palm_joint" type="fixed">
    <origin xyz="0.029 -0.003 0" rpy="0 1.57 0"/>
    <parent link="left_wrist_yaw_link"/>
    <child link="left_sphere_hand_link"/>
  </joint>
  <link name="left_sphere_hand_link">
    <inertial>
      <origin xyz="0 0 0" rpy="0 0 0"/>
      <mass value="0.124"/>
      <inertia ixx="0.0000446" ixy="0" ixz="0"
              iyy="0.0000446" iyz="0" izz="0.0000446"/>
    </inertial>
    <visual>
      <origin xyz="0 0 0" rpy="0 0 0"/>
      <geometry>
        <mesh filename="assets/half_sphere.obj"/>
      </geometry>
      <material name="white">
        <color rgba="0.7 0.7 0.7 1"/>
      </material>
    </visual>
    <collision name="left_sphere_hand_link">
      <origin xyz="0 0 0" rpy="0 0 0"/>
      <geometry>
        <mesh filename="assets/half_sphere.obj"/>
      </geometry>
    </collision>
  </link>
  <joint name="left_sphere_hand_tip_joint" type="fixed">
    <origin xyz="0.03 0 0" rpy="0 0 0"/>
    <parent link="left_sphere_hand_link"/>
    <child link="left_sphere_hand_tip_link"/>
  </joint>
  <link name="left_sphere_hand_tip_link">
    <visual>
      <origin xyz="0 0 0" rpy="0 0 0"/>
      <geometry>
        <sphere radius="0.001"/>
      </geometry>
      <material name="white">
        <color rgba="0.7 0.7 0.7 1"/>
      </material>
    </visual>
    <collision name="left_sphere_hand_tip">
      <origin xyz="0 0 0" rpy="0 0 0"/>
      <geometry>
        <sphere radius="0.001"/>
      </geometry>
    </collision>
  </link>
  <link name="right_shoulder_pitch_link">
    <inertial>
      <origin xyz="0 -0.035892 -0.011628" rpy="0 0 0"/>
      <mass value="0.718"/>
      <inertia ixx="0.0004291" ixy="9.2E-06" ixz="6.4E-06" iyy="0.000453" iyz="-2.26E-05" izz="0.000423"/>
    </inertial>
    <visual>
      <origin xyz="0 0 0" rpy="0 0 0"/>
      <geometry>
        <mesh filename="assets/right_shoulder_pitch_link.obj"/>
      </geometry>
      <material name="white">
        <color rgba="0.7 0.7 0.7 1"/>
      </material>
    </visual>
    <collision name="right_shoulder_pitch_link">
      <origin xyz="0 -0.04 -0.01" rpy="0 1.5707963267948966 0"/>
      <geometry>
        <cylinder radius="0.03" length="0.05"/>
      </geometry>
    </collision>
  </link>
  <joint name="right_shoulder_pitch_joint" type="revolute">
    <origin xyz="0.0039563 -0.10021 0.23778" rpy="-0.27931 5.4949E-05 0.00019159"/>
    <parent link="torso_link"/>
    <child link="right_shoulder_pitch_link"/>
    <axis xyz="0 1 0"/>
    <limit lower="-3.0892" upper="2.6704" effort="25" velocity="37"/>
  </joint>
  <link name="right_shoulder_roll_link">
    <inertial>
      <origin xyz="-0.000227 -0.00727 -0.063243" rpy="0 0 0"/>
      <mass value="0.643"/>
      <inertia ixx="0.0006177" ixy="1E-06" ixz="8.7E-06" iyy="0.0006912" iyz="5.3E-06" izz="0.0003894"/>
    </inertial>
    <visual>
      <origin xyz="0 0 0" rpy="0 0 0"/>
      <geometry>
        <mesh filename="assets/right_shoulder_roll_link.obj"/>
      </geometry>
      <material name="white">
        <color rgba="0.7 0.7 0.7 1"/>
      </material>
    </visual>
    <collision name="right_shoulder_roll_link">
      <origin xyz="-0.004 -0.006 -0.053" rpy="0 0 0"/>
      <geometry>
        <cylinder radius="0.03" length="0.03"/>
      </geometry>
    </collision>
  </link>
  <joint name="right_shoulder_roll_joint" type="revolute">
    <origin xyz="0 -0.038 -0.013831" rpy="0.27925 0 0"/>
    <parent link="right_shoulder_pitch_link"/>
    <child link="right_shoulder_roll_link"/>
    <axis xyz="1 0 0"/>
    <limit lower="-2.2515" upper="1.5882" effort="25" velocity="37"/>
  </joint>
  <link name="right_shoulder_yaw_link">
    <inertial>
      <origin xyz="0.010773 0.002949 -0.072009" rpy="0 0 0"/>
      <mass value="0.734"/>
      <inertia ixx="0.0009988" ixy="-7.9E-06" ixz="0.0001412" iyy="0.0010605" iyz="2.86E-05" izz="0.0004354"/>
    </inertial>
    <visual>
      <origin xyz="0 0 0" rpy="0 0 0"/>
      <geometry>
        <mesh filename="assets/right_shoulder_yaw_link.obj"/>
      </geometry>
      <material name="white">
        <color rgba="0.7 0.7 0.7 1"/>
      </material>
    </visual>
    <collision name="right_shoulder_yaw_link">
      <origin xyz="0 0 0" rpy="0 0 0"/>
      <geometry>
        <mesh filename="assets/right_shoulder_yaw_link.obj"/>
      </geometry>
    </collision>
  </link>
  <joint name="right_shoulder_yaw_joint" type="revolute">
    <origin xyz="0 -0.00624 -0.1032" rpy="0 0 0"/>
    <parent link="right_shoulder_roll_link"/>
    <child link="right_shoulder_yaw_link"/>
    <axis xyz="0 0 1"/>
    <limit lower="-2.618" upper="2.618" effort="25" velocity="37"/>
  </joint>
  <link name="right_elbow_link">
    <inertial>
      <origin xyz="0.064956 -0.004454 -0.010062" rpy="0 0 0"/>
      <mass value="0.6"/>
      <inertia ixx="0.0002891" ixy="-6.53E-05" ixz="1.72E-05" iyy="0.0004152" iyz="5.6E-06" izz="0.0004197"/>
    </inertial>
    <visual>
      <origin xyz="0 0 0" rpy="0 0 0"/>
      <geometry>
        <mesh filename="assets/right_elbow_link.obj"/>
      </geometry>
      <material name="white">
        <color rgba="0.7 0.7 0.7 1"/>
      </material>
    </visual>
    <collision name="right_elbow_link">
      <origin xyz="0 0 0" rpy="0 0 0"/>
      <geometry>
        <mesh filename="assets/right_elbow_link.obj"/>
      </geometry>
    </collision>
  </link>
  <joint name="right_elbow_joint" type="revolute">
    <origin xyz="0.015783 0 -0.080518" rpy="0 0 0"/>
    <parent link="right_shoulder_yaw_link"/>
    <child link="right_elbow_link"/>
    <axis xyz="0 1 0"/>
    <limit lower="-1.0472" upper="2.0944" effort="25" velocity="37"/>
  </joint>
  <joint name="right_wrist_roll_joint" type="revolute">
    <origin xyz="0.100 -0.00188791 -0.010" rpy="0 0 0"/>
    <axis xyz="1 0 0"/>
    <parent link="right_elbow_link"/>
    <child link="right_wrist_roll_link"/>
    <limit effort="25" velocity="37" lower="-1.972222054" upper="1.972222054"/>
  </joint>
  <link name="right_wrist_roll_link">
    <inertial>
      <origin xyz="0.01713944778 -0.00053759094 0.00000048864" rpy="0 0 0"/>
      <mass value="0.08544498"/>
      <inertia ixx="0.00004821544023" ixy="0.00000424511021" ixz="0.00000000510599" iyy="0.00003722899093" iyz="0.00000000123525" izz="0.00005482106541"/>
    </inertial>
    <visual>
      <origin xyz="0 0 0" rpy="0 0 0"/>
      <geometry>
        <mesh filename="assets/right_wrist_roll_link.obj"/>
      </geometry>
      <material name="white">
        <color rgba="0.7 0.7 0.7 1"/>
      </material>
    </visual>
    <collision name="right_wrist_roll_link">
      <origin xyz="0 0 0" rpy="0 0 0"/>
      <geometry>
        <mesh filename="assets/right_wrist_roll_link.obj"/>
      </geometry>
    </collision>
  </link>
  <joint name="right_wrist_pitch_joint" type="revolute">
    <origin xyz="0.038 0 0" rpy="0 0 0"/>
    <axis xyz="0 1 0"/>
    <parent link="right_wrist_roll_link"/>
    <child link="right_wrist_pitch_link"/>
    <limit effort="5" velocity="22" lower="-1.614429558" upper="1.614429558"/>
  </joint>
  <link name="right_wrist_pitch_link">
    <inertial>
      <origin xyz="0.02299989837 0.00111685314 -0.00111658096" rpy="0 0 0"/>
      <mass value="0.48404956"/>
      <inertia ixx="0.00016579646273" ixy="0.00001231206746" ixz="0.00001231699194" iyy="0.00042954057410" iyz="-0.00000081417712" izz="0.00042953697654"/>
    </inertial>
    <visual>
      <origin xyz="0 0 0" rpy="0 0 0"/>
      <geometry>
        <mesh filename="assets/right_wrist_pitch_link.obj"/>
      </geometry>
      <material name="white">
        <color rgba="0.7 0.7 0.7 1"/>
      </material>
    </visual>
    <collision name="right_wrist_pitch_link">
      <origin xyz="0 0 0" rpy="0 0 0"/>
      <geometry>
        <mesh filename="assets/right_wrist_pitch_link.obj"/>
      </geometry>
    </collision>
  </link>
  <joint name="right_wrist_yaw_joint" type="revolute">
    <origin xyz="0.046 0 0" rpy="0 0 0"/>
    <axis xyz="0 0 1"/>
    <parent link="right_wrist_pitch_link"/>
    <child link="right_wrist_yaw_link"/>
    <limit effort="5" velocity="22" lower="-1.614429558" upper="1.614429558"/>
  </joint>
  <link name="right_wrist_yaw_link">
    <inertial>
      <origin xyz="0.02200381568 -0.00049485096 0.00053861123" rpy="0 0 0"/>
      <mass value="0.08457647"/>
      <inertia ixx="0.00004929128828" ixy="0.00000045735494" ixz="0.00000445867591" iyy="0.00005973338134" iyz="-0.00000043217198" izz="0.00003928083826"/>
    </inertial>
    <visual>
      <origin xyz="0 0 0" rpy="0 0 0"/>
      <geometry>
        <mesh filename="assets/right_wrist_yaw_link.obj"/>
      </geometry>
      <material name="white">
        <color rgba="0.7 0.7 0.7 1"/>
      </material>
    </visual>
    <collision name="right_wrist_yaw_link">
      <origin xyz="0 0 0" rpy="0 0 0"/>
      <geometry>
        <mesh filename="assets/right_wrist_yaw_link.obj"/>
      </geometry>
    </collision>
  </link>
  <joint name="right_hand_palm_joint" type="fixed">
    <origin xyz="0.029 -0.003 0" rpy="0 1.57 0"/>
    <parent link="right_wrist_yaw_link"/>
    <child link="right_sphere_hand_link"/>
  </joint>
  <link name="right_sphere_hand_link">
    <inertial>
      <origin xyz="0 0 0" rpy="0 0 0"/>
      <mass value="0.124"/>
      <inertia ixx="0.0000446" ixy="0" ixz="0"
              iyy="0.0000446" iyz="0" izz="0.0000446"/>
    </inertial>
    <visual>
      <origin xyz="0 0 0" rpy="0 0 0"/>
      <geometry>
        <mesh filename="assets/half_sphere.obj"/>
      </geometry>
      <material name="white">
        <color rgba="0.7 0.7 0.7 1"/>
      </material>
    </visual>
    <collision name="right_sphere_hand_link">
      <origin xyz="0 0 0" rpy="0 0 0"/>
      <geometry>
        <mesh filename="assets/half_sphere.obj"/>
      </geometry>
    </collision>
  </link>
  <joint name="right_sphere_hand_tip_joint" type="fixed">
    <origin xyz="0.03 0 0" rpy="0 0 0"/>
    <parent link="right_sphere_hand_link"/>
    <child link="right_sphere_hand_tip_link"/>
  </joint>
  <link name="right_sphere_hand_tip_link">
    <visual>
      <origin xyz="0 0 0" rpy="0 0 0"/>
      <geometry>
        <sphere radius="0.001"/>
      </geometry>
      <material name="white">
        <color rgba="0.7 0.7 0.7 1"/>
      </material>
    </visual>
    <collision name="right_sphere_hand_tip">
      <origin xyz="0 0 0" rpy="0 0 0"/>
      <geometry>
        <sphere radius="0.001"/>
      </geometry>
    </collision>
  </link>



</robot>
